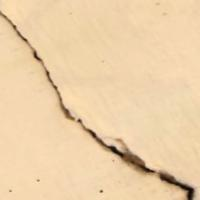crack: (0, 8, 199, 199)
